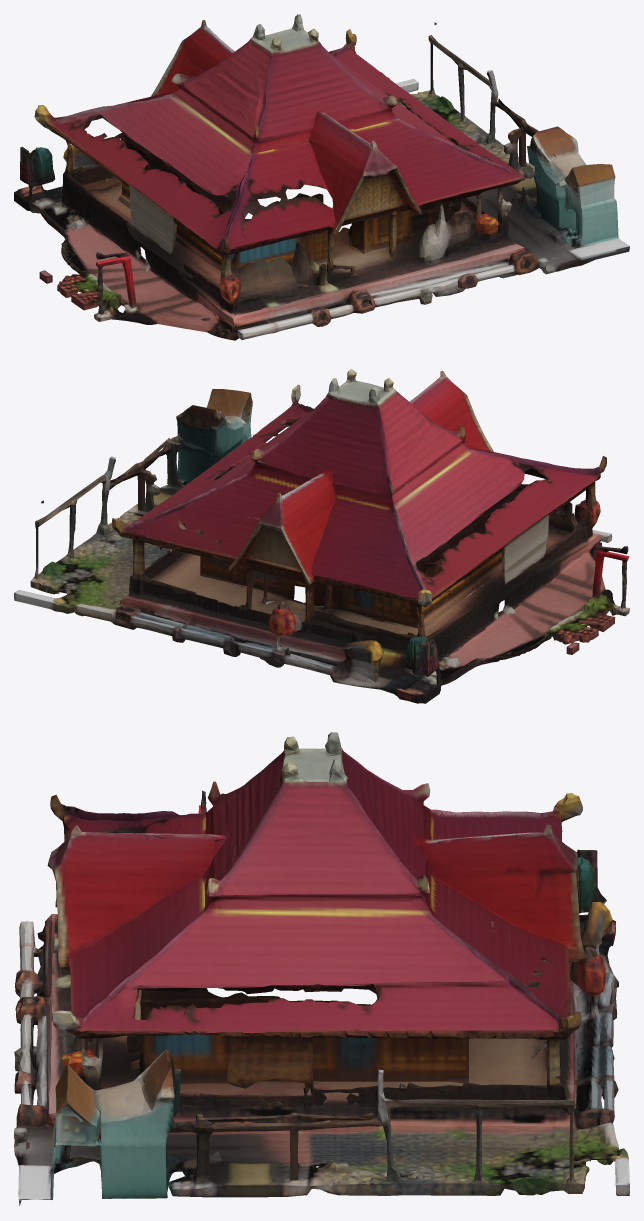
File: kepulauan-bangka-belitung.glb
3 views of the same model, one above another, from view 1: azimuth 30°, elevation 25°; view 2: azimuth 150°, elevation 25°; view 3: azimuth 270°, elevation 25° (orthographic). The views are drawn at different scales.
Visible parts, largest first — view 1: world; view 2: world; view 3: world.
Part boxes in pixels (x1=…): world: x1=14, y1=14, x2=629, y2=340; world: x1=14, y1=369, x2=629, y2=703; world: x1=14, y1=732, x2=629, y2=1205.
Bounding box in the file's own units: 0.7005 × 0.3059 × 0.5625.
1 material, 1 textured.
